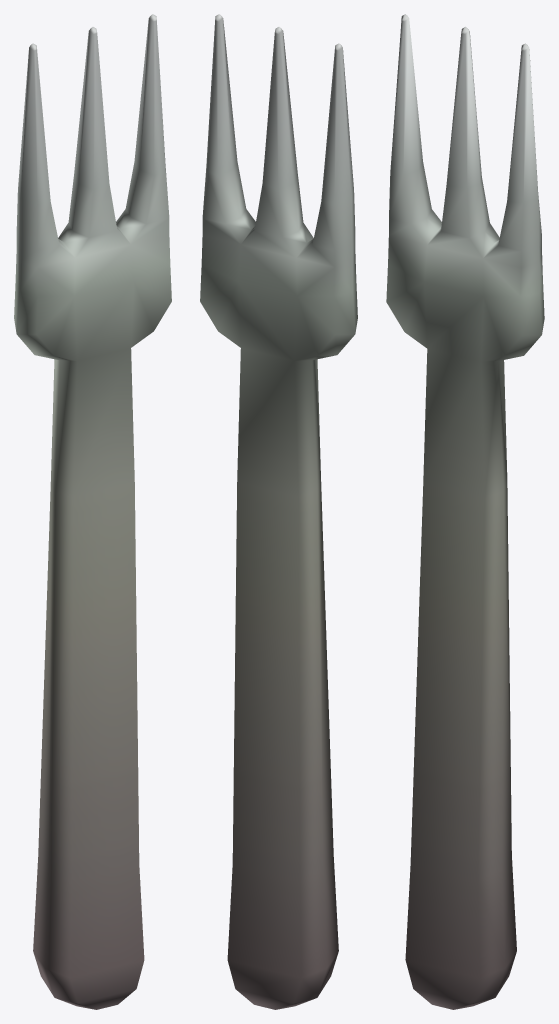
Rendered from Fork_02.glb.
3 renders of one model, left to right at view 1: azimuth 30°, elevation 25°; view 2: azimuth 150°, elevation 25°; view 3: azimuth 330°, elevation 25°, orthographic.
Visible parts, largest first — view 1: Fork_02; view 2: Fork_02; view 3: Fork_02.
Boxes of the visible parts, x1,y1,x2,y2 form: Fork_02: [14, 14, 171, 1009]; Fork_02: [200, 14, 357, 1009]; Fork_02: [386, 14, 544, 1009].
Bounding box in the file's own units: 0.0875 × 0.5339 × 0.0367.
1 material, 1 textured.
